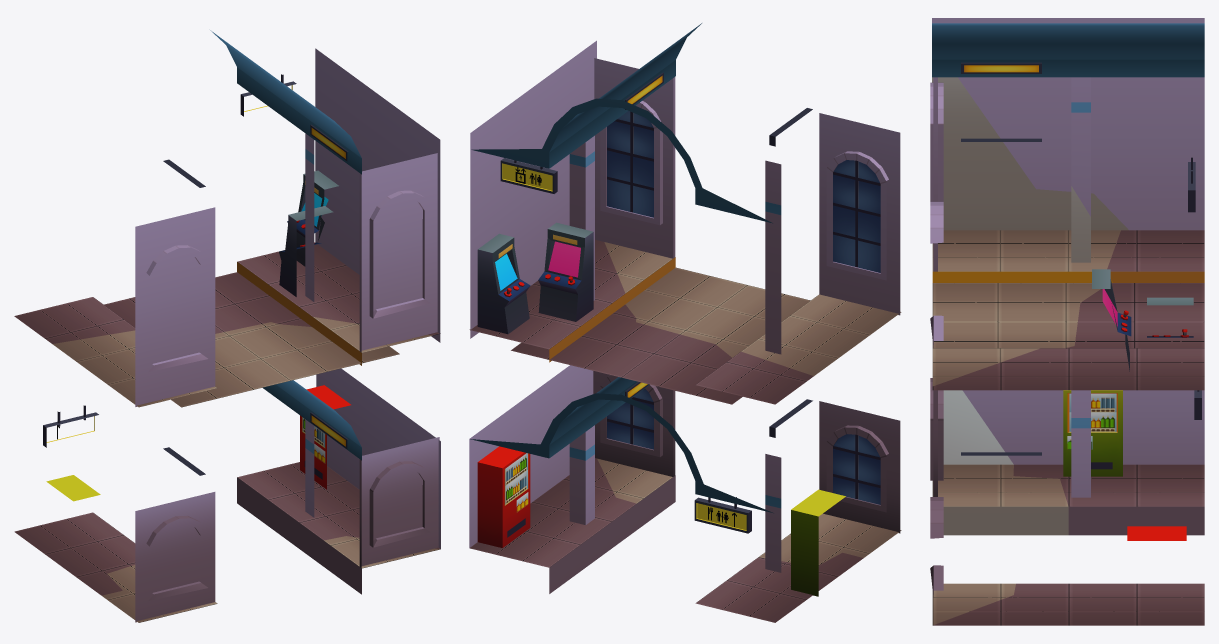
File: 1.100_SanFrancisco_station_end.glb
3 views of the same model, side by side, from view 1: azimuth 30°, elevation 25°; view 2: azimuth 150°, elevation 25°; view 3: azimuth 270°, elevation 25° (orthographic). The views are drawn at different scales.
Visible parts, largest first — view 1: 1.100_SanFrancisco_station_end; view 2: 1.100_SanFrancisco_station_end; view 3: 1.100_SanFrancisco_station_end.
Boxes of the visible parts, x1,y1,x2,y2 form: 1.100_SanFrancisco_station_end: (14,30,440,622); 1.100_SanFrancisco_station_end: (469,23,901,622); 1.100_SanFrancisco_station_end: (930,18,1204,625).
Bounding box in the file's own units: 129 × 201 × 90.75.
3 materials, 3 textured.
